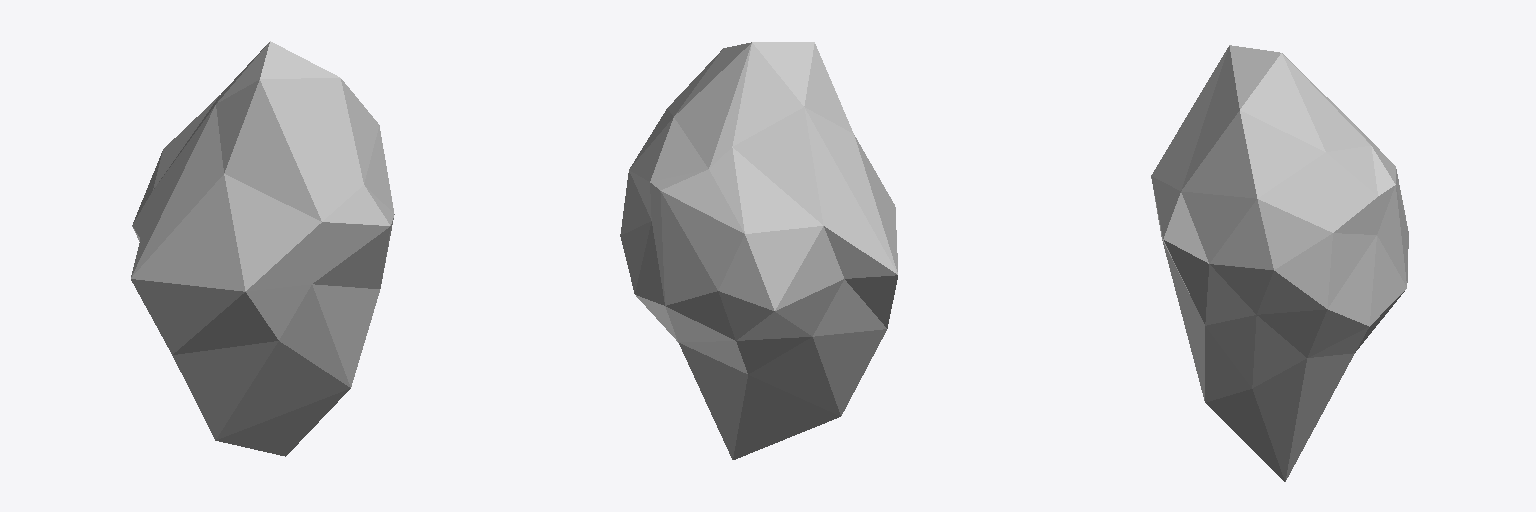
Rendered from rock-2.obj.
3 views of the same model, side by side, from view 1: azimuth 30°, elevation 25°; view 2: azimuth 150°, elevation 25°; view 3: azimuth 270°, elevation 25° (orthographic).
Parts seen in each view (by area): view 1: Icosphere; view 2: Icosphere; view 3: Icosphere.
Boxes of the visible parts, x1,y1,x2,y2 form: Icosphere: [131, 41, 394, 456]; Icosphere: [620, 42, 897, 459]; Icosphere: [1151, 45, 1408, 481].
Size of the model in its own units: 0.2728 by 0.4291 by 0.238.